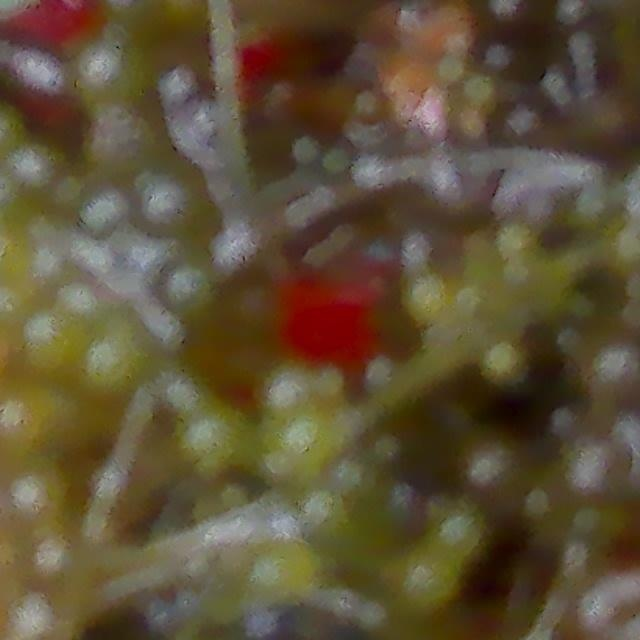SeaGrape: (134, 171, 206, 240), (465, 437, 530, 499), (590, 332, 640, 399), (480, 0, 548, 47), (574, 425, 621, 490), (497, 109, 557, 152)
